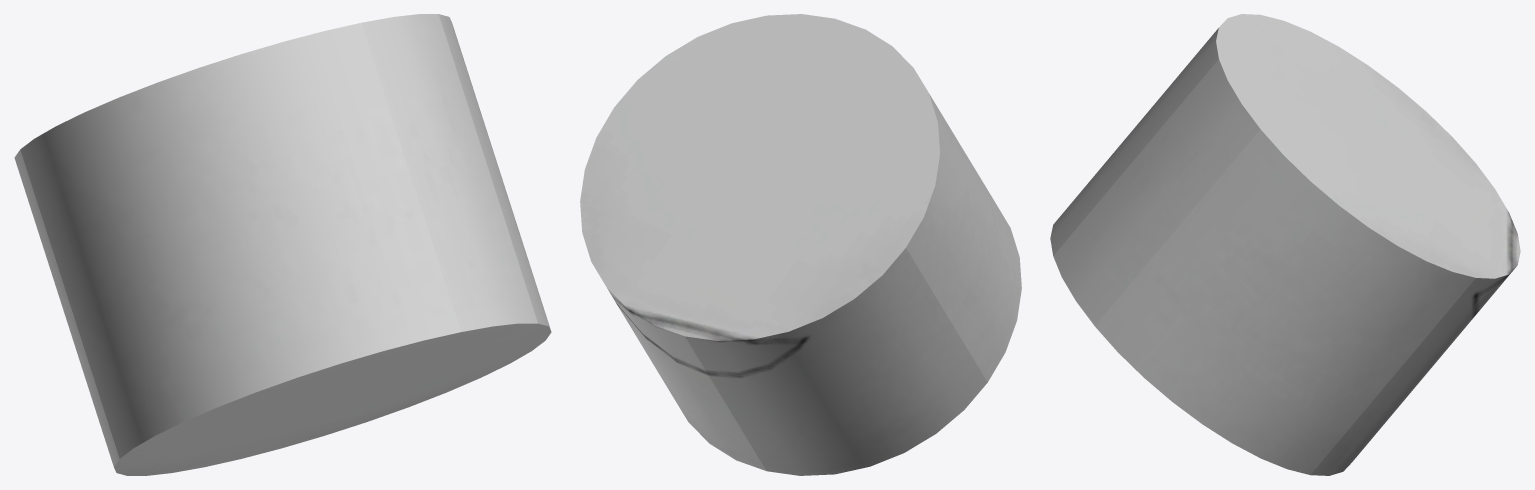
Rendered from optical_carriage__eyepiece_collar.glb.
The picture shows the model from 3 angles, left to right: view 1: azimuth 30°, elevation 25°; view 2: azimuth 150°, elevation 25°; view 3: azimuth 270°, elevation 25°; orthographic projection. The views are drawn at different scales.
Parts seen in each view (by area): view 1: geometry_0; view 2: geometry_0; view 3: geometry_0.
Part boxes in pixels (x1,y1,x2,y2): geometry_0: (14,14,551,475); geometry_0: (580,14,1021,475); geometry_0: (1050,14,1520,475).
Bounding box in the file's own units: 0.028 × 0.0329 × 0.0344.
Materials: 1 (1 with a texture image).
